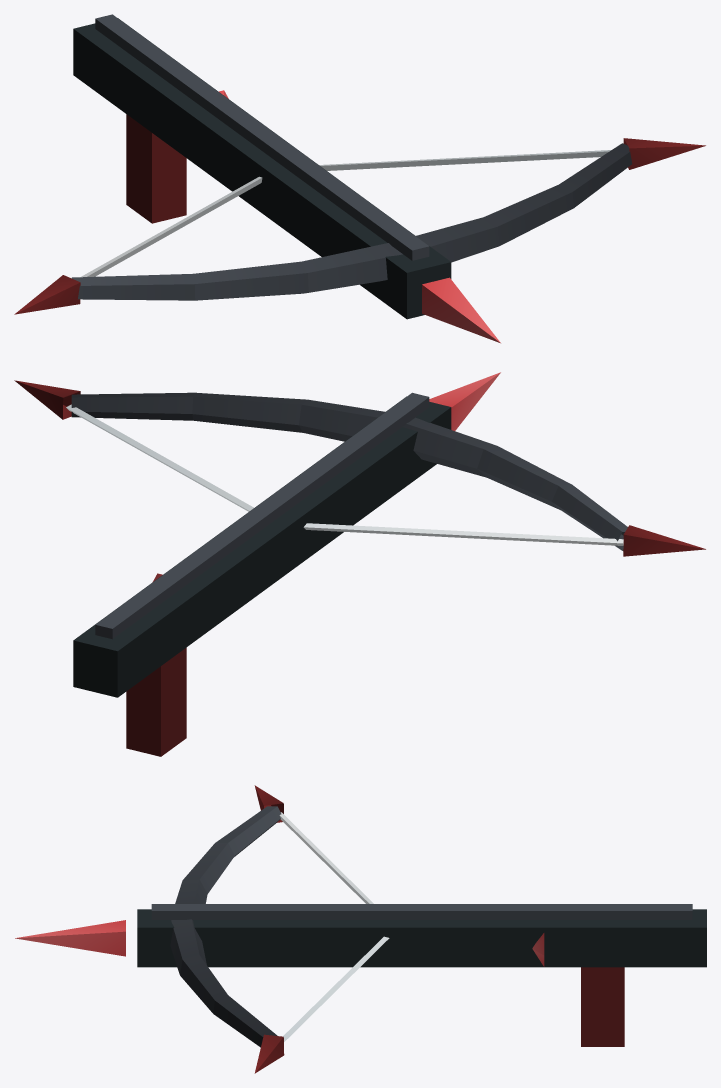
The model's file is ranger_crossbow_3.gltf.
3 views of the same model, one above another, from view 1: azimuth 30°, elevation 25°; view 2: azimuth 150°, elevation 25°; view 3: azimuth 270°, elevation 25° (orthographic). The views are drawn at different scales.
Parts seen in each view (by area): view 1: ranger_crossbow_3; view 2: ranger_crossbow_3; view 3: ranger_crossbow_3.
Boxes of the visible parts, left/top/right/bottom form: ranger_crossbow_3: left=14, top=14, right=705, bottom=343; ranger_crossbow_3: left=14, top=372, right=705, bottom=756; ranger_crossbow_3: left=15, top=785, right=706, bottom=1073.
Bounding box in the file's own units: 1.4 × 0.3 × 1.42.
1 material, 1 textured.
